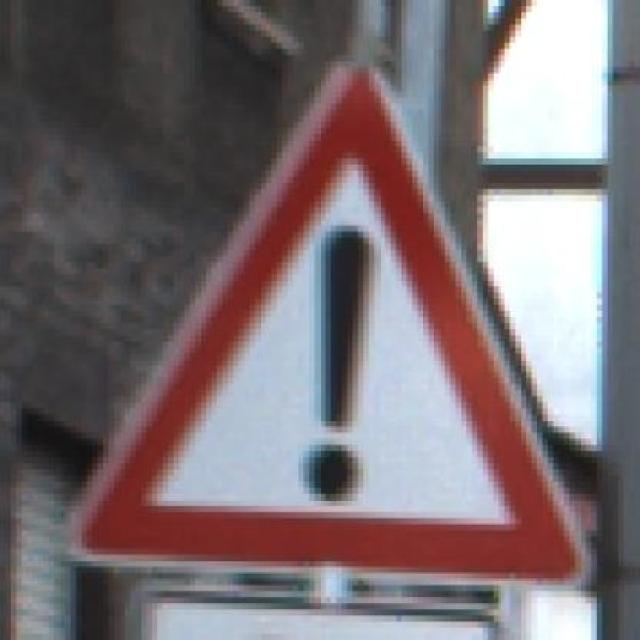Attention Please-: (49, 30, 613, 598)
